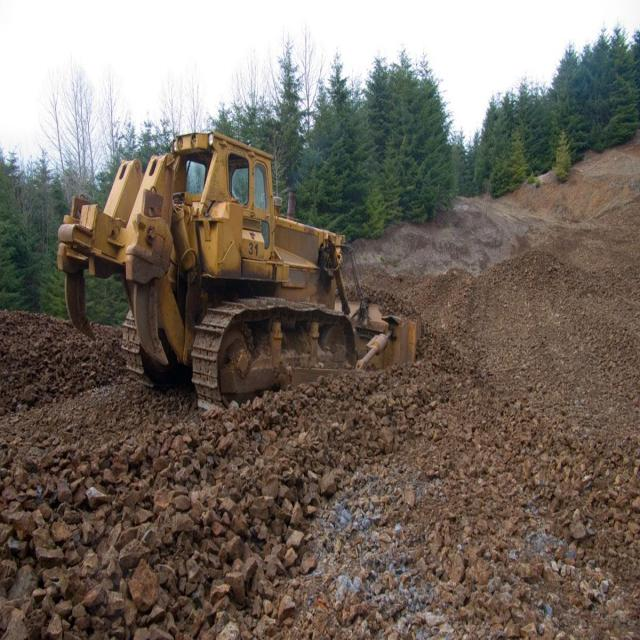Bulldozer: (62, 123, 449, 428)
